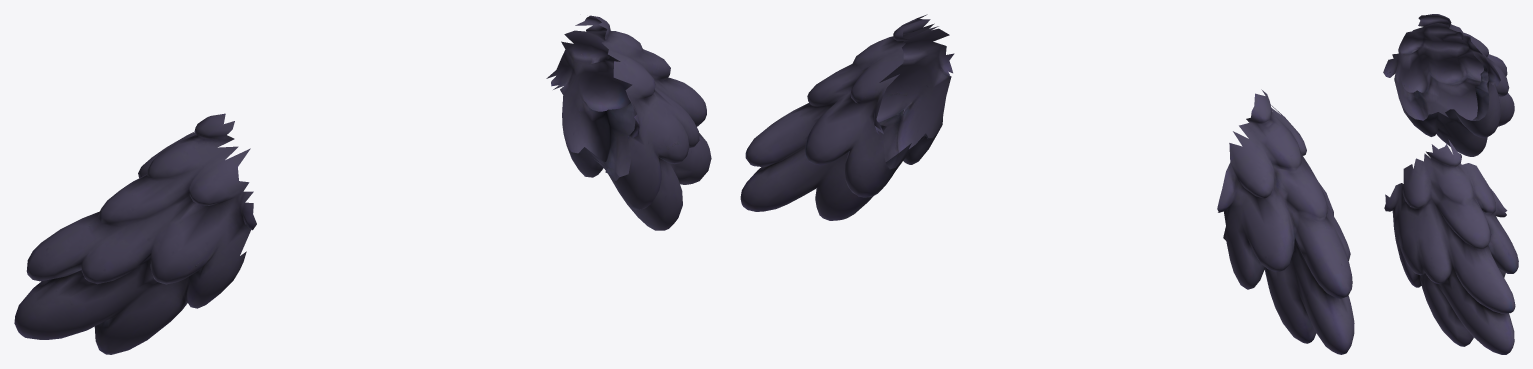
Rendered from sumi_reveal.glb.
3 views of the same model, side by side, from view 1: azimuth 30°, elevation 25°; view 2: azimuth 150°, elevation 25°; view 3: azimuth 270°, elevation 25° (orthographic). The views are drawn at different scales.
Visible parts, largest first — view 1: sumi_reveal; view 2: sumi_reveal; view 3: sumi_reveal.
Boxes of the visible parts, x1=… form: sumi_reveal: x1=14, y1=15, x2=711, y2=354; sumi_reveal: x1=740, y1=14, x2=1354, y2=354; sumi_reveal: x1=1383, y1=14, x2=1518, y2=354.
Bounding box in the file's own units: 0.9 × 0.304 × 0.2152.
1 material, 1 textured.
